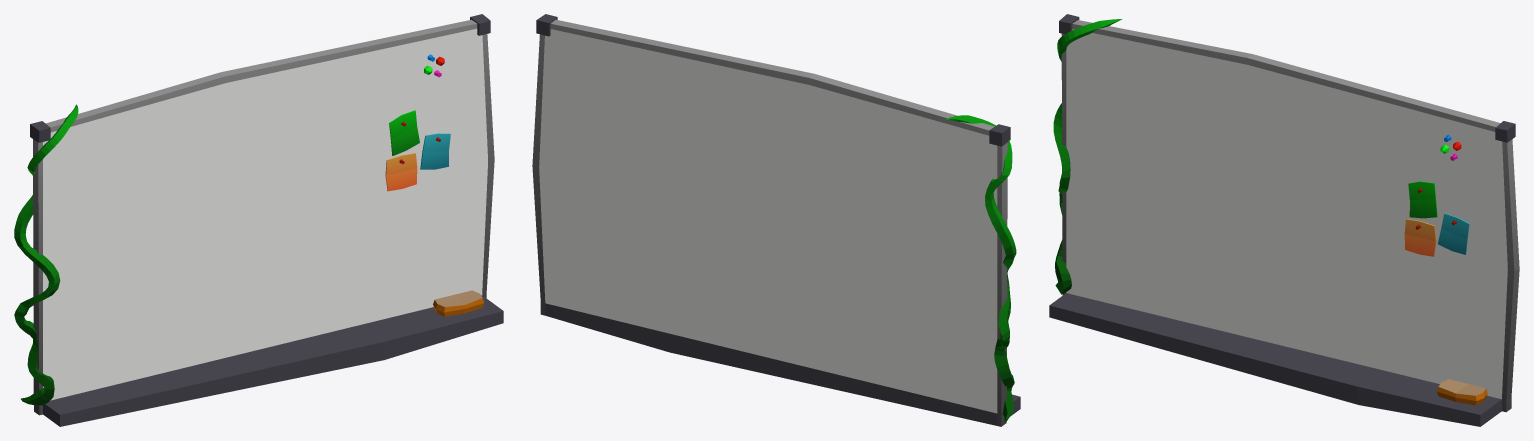
Rendered from pizarron.gltf.
3 renders of one model, left to right at view 1: azimuth 30°, elevation 25°; view 2: azimuth 150°, elevation 25°; view 3: azimuth 330°, elevation 25°, orthographic. The views are drawn at different scales.
Parts seen in each view (by area): view 1: Pizarron; view 2: Pizarron; view 3: Pizarron.
Part boxes in pixels (<box>): Pizarron: <box>14,14,503,426</box>; Pizarron: <box>532,14,1020,426</box>; Pizarron: <box>1049,14,1519,426</box>.
Size of what is drawn, in the model's own units: 1.81 by 1.1 by 0.2467.
1 material, 1 textured.
